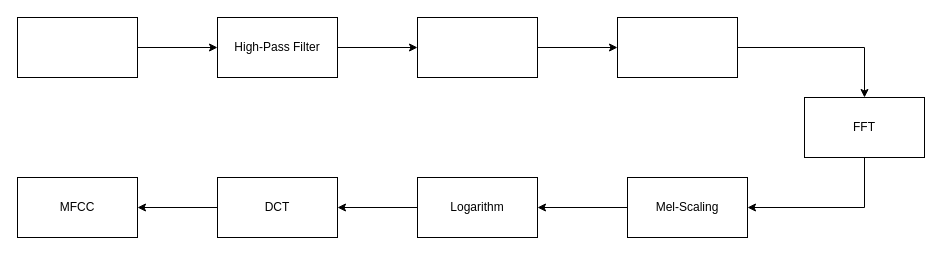
The diagram is 942 pixels wide and 255 high, and some of its shapes have lost their labels. Each missing label, with the centre of its shape:
"Frame" goes at point (477, 47).
"Hamming Window" goes at point (677, 47).
"Waveform" goes at point (77, 47).
